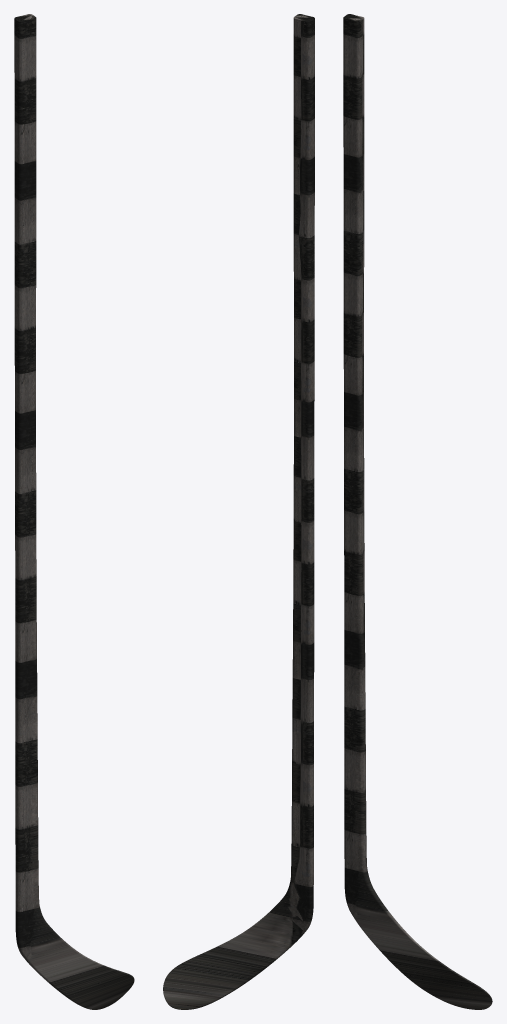
Rendered from P70-SBT.glb.
The picture shows the model from 3 angles, left to right: view 1: azimuth 30°, elevation 25°; view 2: azimuth 150°, elevation 25°; view 3: azimuth 330°, elevation 25°; orthographic projection. The views are drawn at different scales.
Parts seen in each view (by area): view 1: geometry_0; view 2: geometry_0; view 3: geometry_0.
Part boxes in pixels (x1,y1,x2,y2): geometry_0: (14,14,134,1009); geometry_0: (163,14,314,1009); geometry_0: (343,14,492,1009).
Size of the model in its own units: 227 by 1650 by 78.08.
Materials: 1 (1 with a texture image).
